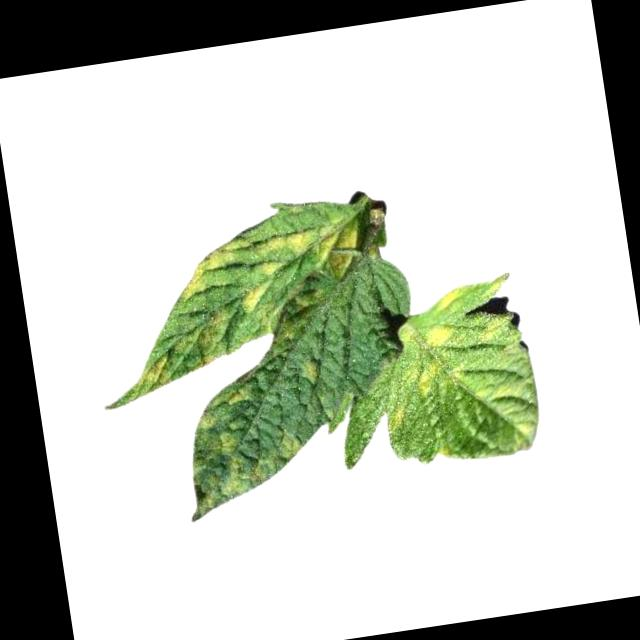Leaf_Mold: (179, 369, 318, 520), (262, 216, 366, 281), (397, 320, 471, 406), (173, 243, 239, 304), (192, 307, 235, 365), (135, 350, 176, 390), (477, 310, 517, 347), (239, 282, 275, 317), (384, 404, 414, 437), (299, 356, 330, 385)
